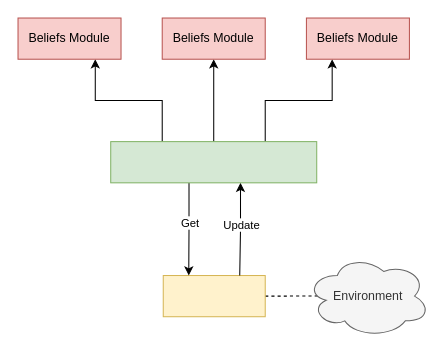
Image size: 448x355. Some labels were removed from this diagram. Each missing label, with the centre of its shape:
Beliefs Management Module: the point at 213,162
Old_Agent: the point at 213,295
